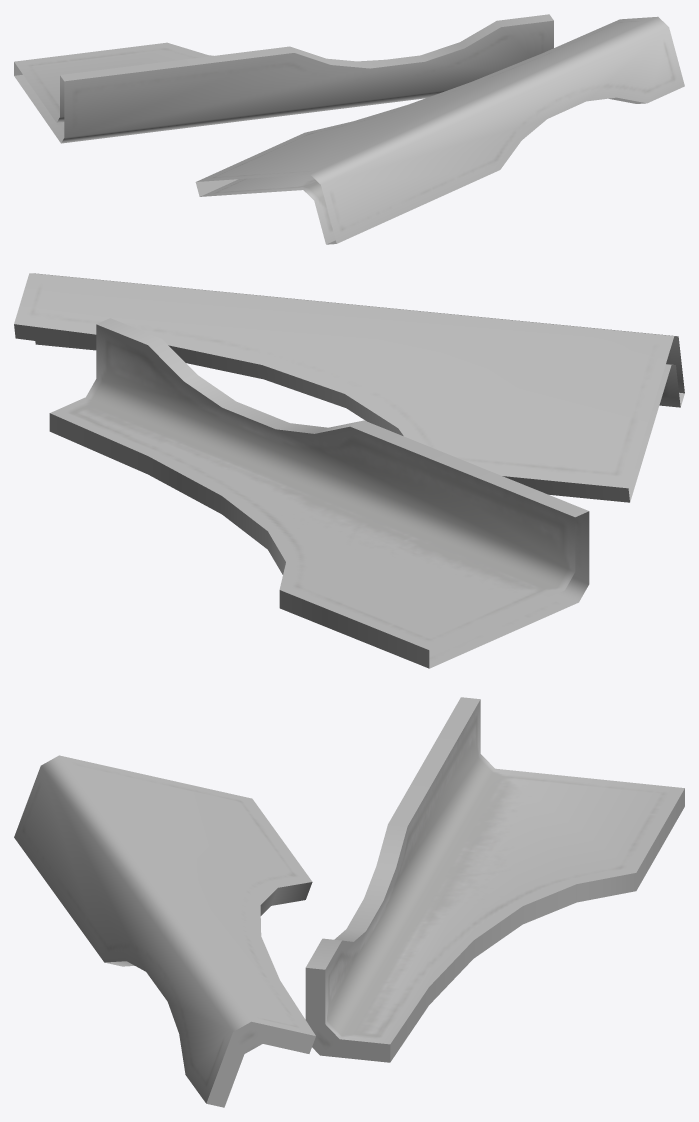
The model's file is SM_FireExtinguisher_Part_07.FBX.
3 renders of one model, top to bottom at view 1: azimuth 30°, elevation 25°; view 2: azimuth 150°, elevation 25°; view 3: azimuth 270°, elevation 25°, orthographic. The views are drawn at different scales.
Visible parts, largest first — view 1: SM_FireExtinguisher_Part_07_LOD0; view 2: SM_FireExtinguisher_Part_07_LOD0; view 3: SM_FireExtinguisher_Part_07_LOD0.
Part boxes in pixels (x1,y1,x2,y2): SM_FireExtinguisher_Part_07_LOD0: (14,14,684,244); SM_FireExtinguisher_Part_07_LOD0: (14,273,684,668); SM_FireExtinguisher_Part_07_LOD0: (14,697,684,1107).
Size of the model in its own units: 15.86 by 13.67 by 1.95.
